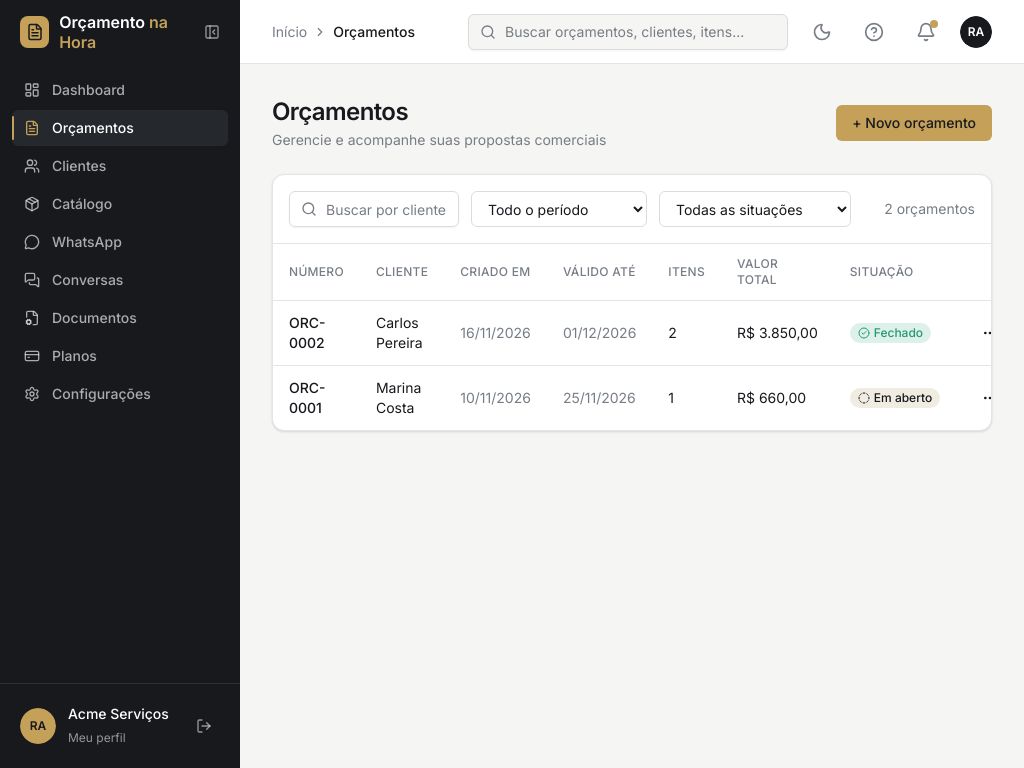
Scenario: orçamentos › lista da API e filtra por busca
The image size is (1024, 768).
Check: the text "ORC-0002" is shown, box [273,300,360,366]
Check: the text "ORC-0001" is shown, box [273,366,360,430]
Step 1. Type "Marina" into the field labelled "Buscar por cliente ou número" → (374, 209), box [289,191,459,227]
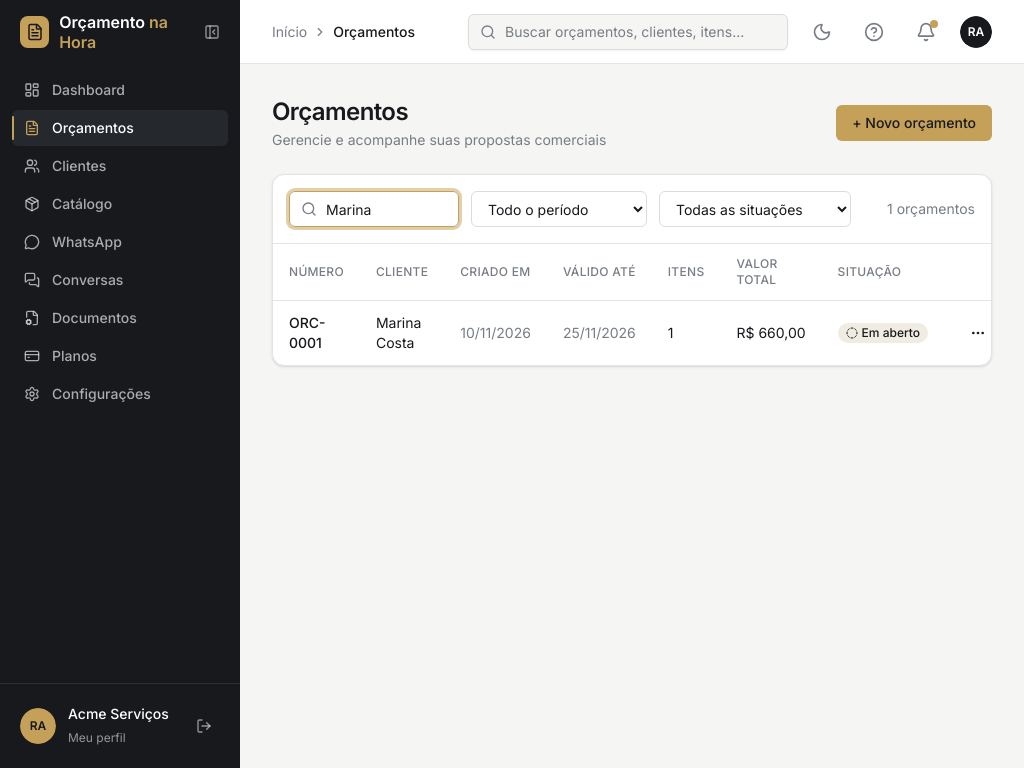
Check: the text "ORC-0001" is shown, box [273,300,360,365]
Check: the text "ORC-0002" is gone
Step 2. Replace the text in the field named "Buscar por cliente ou número" with "zzzz" → (374, 209), box [289,191,459,227]
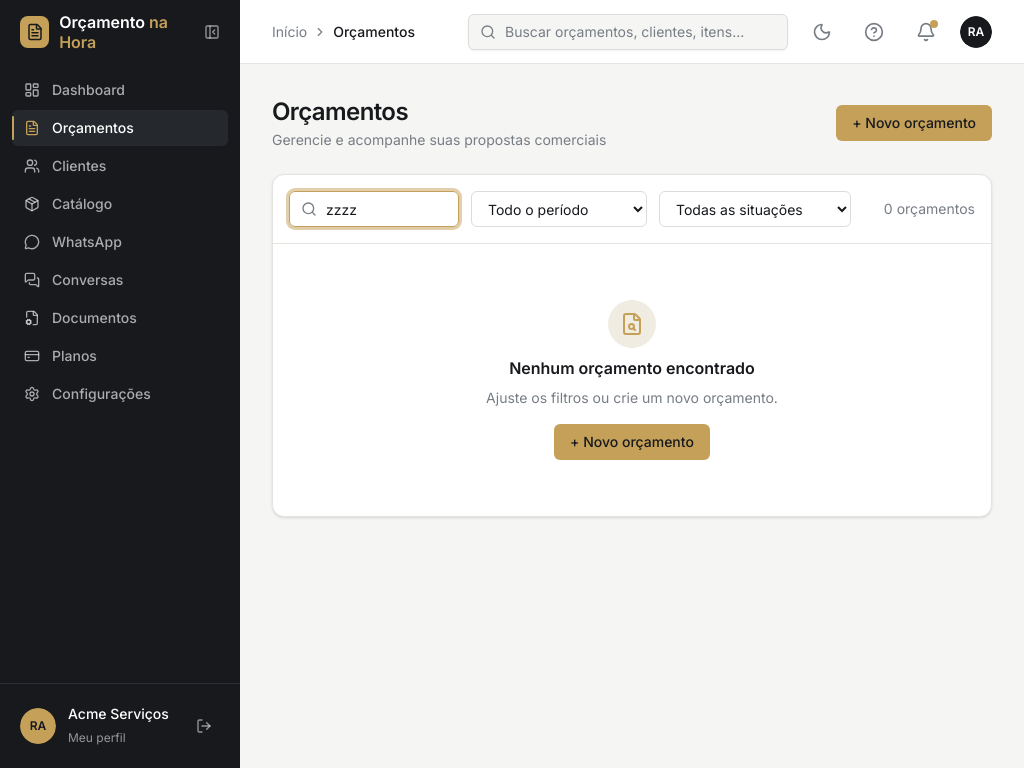
Check: the heading "Nenhum orçamento encontrado" is shown, box [509,356,755,380]
